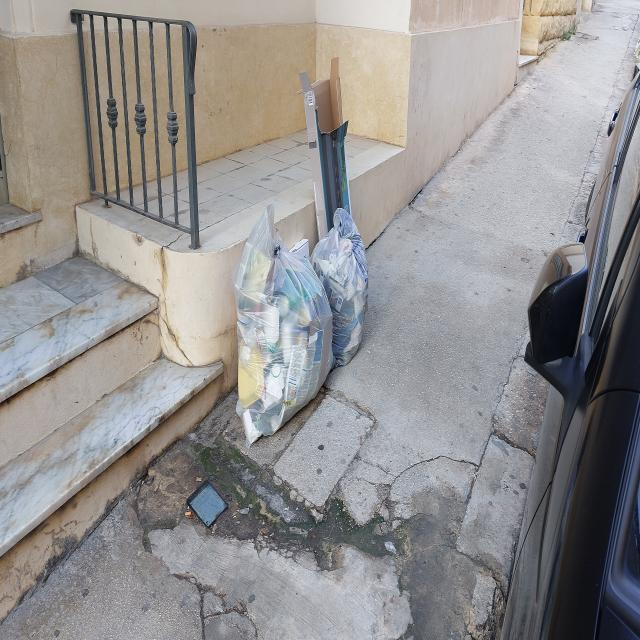Other: (300, 53, 358, 243), (289, 232, 315, 268)
Recycled Waste -Grey or Green Bag-: (237, 201, 336, 453), (314, 203, 371, 374)
